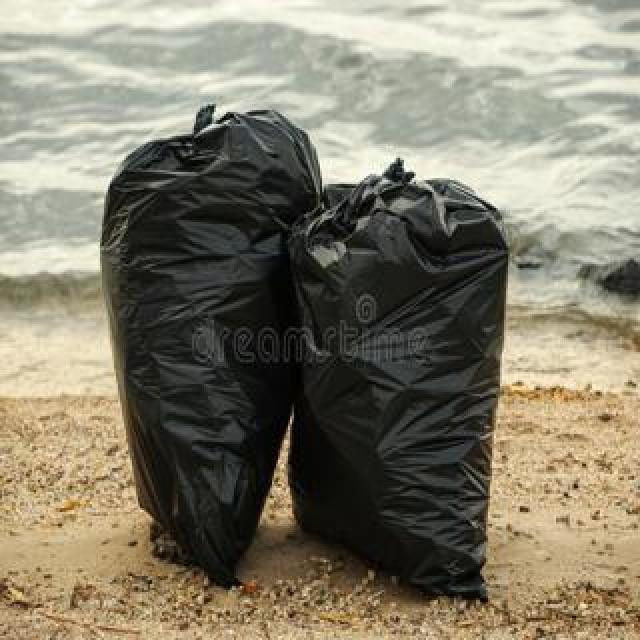Trashbag: (266, 163, 516, 582), (95, 120, 297, 565)
